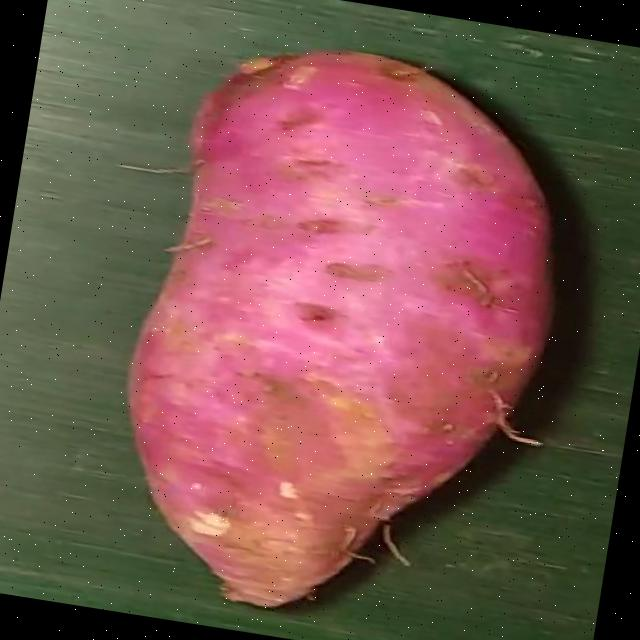Sweet Potato: (125, 48, 555, 609)
